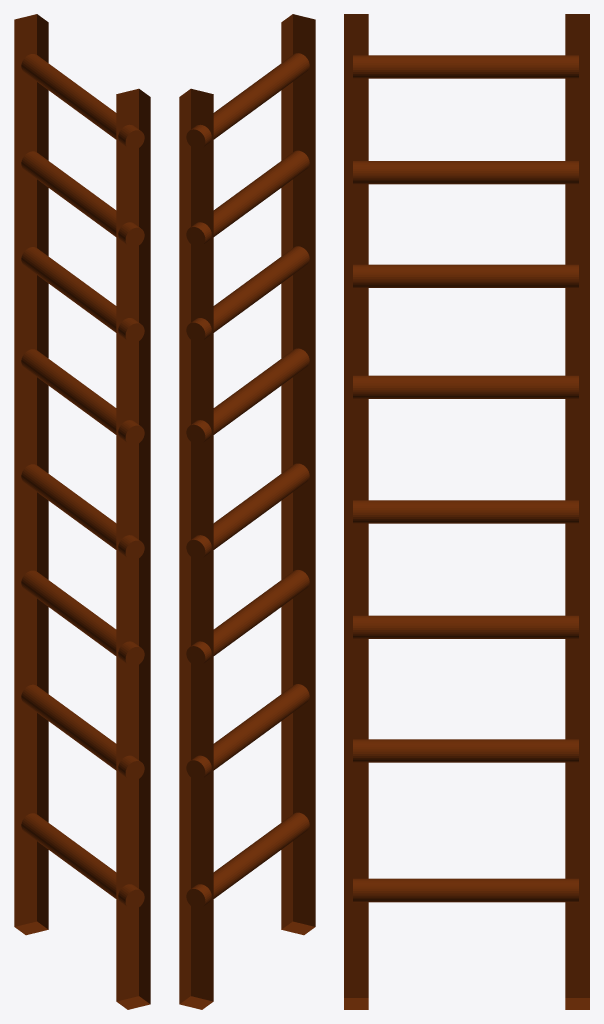
The model's file is scara.fbx.
The picture shows the model from 3 angles, left to right: view 1: azimuth 30°, elevation 25°; view 2: azimuth 150°, elevation 25°; view 3: azimuth 270°, elevation 25°; orthographic projection. The views are drawn at different scales.
Visible parts, largest first — view 1: Cylinder.006; view 2: Cylinder.006; view 3: Cylinder.006.
Boxes of the visible parts, <box> form: Cylinder.006: <box>14,14,150,1009</box>; Cylinder.006: <box>179,14,315,1009</box>; Cylinder.006: <box>344,14,589,1009</box>.
Size of the model in its own units: 28.61 by 1092 by 247.
